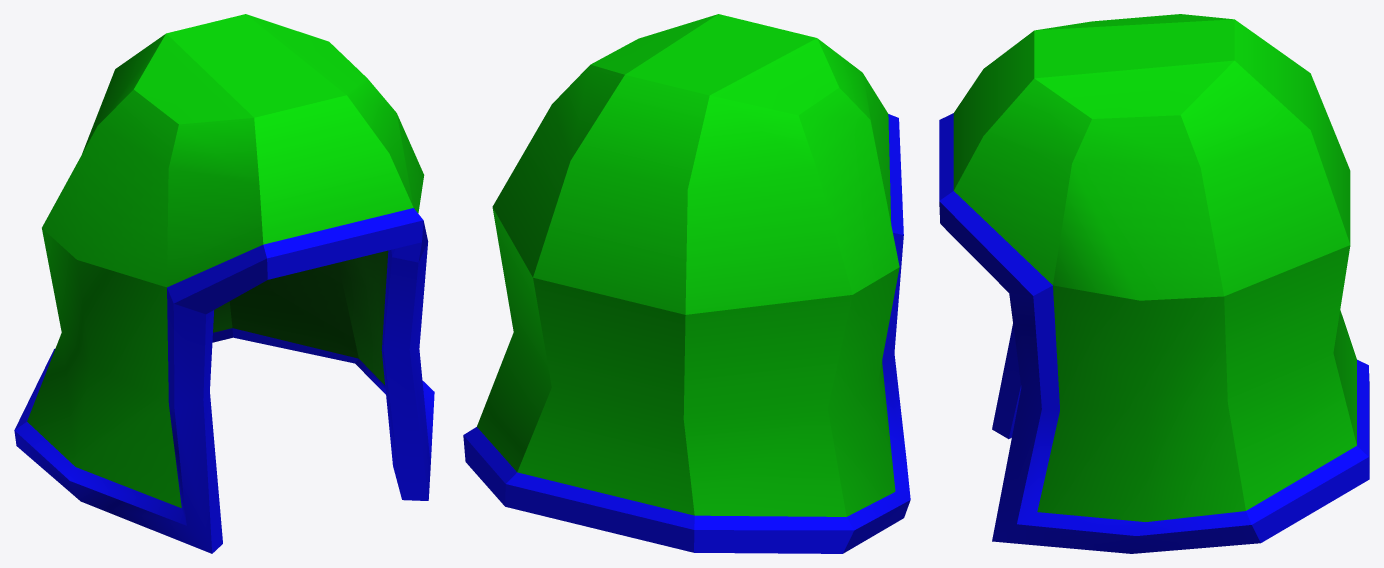
File: ArmingCap_F.fbx
3 renders of one model, left to right at view 1: azimuth 30°, elevation 25°; view 2: azimuth 150°, elevation 25°; view 3: azimuth 270°, elevation 25°, orthographic. The views are drawn at different scales.
Visible parts, largest first — view 1: ArmingCap_F; view 2: ArmingCap_F; view 3: ArmingCap_F.
Part boxes in pixels (box(x1,y1,x2,y2)): ArmingCap_F: box(14, 14, 434, 553); ArmingCap_F: box(463, 14, 910, 553); ArmingCap_F: box(939, 14, 1369, 553).
Bounding box in the file's own units: 28.57 × 31.23 × 27.34.
